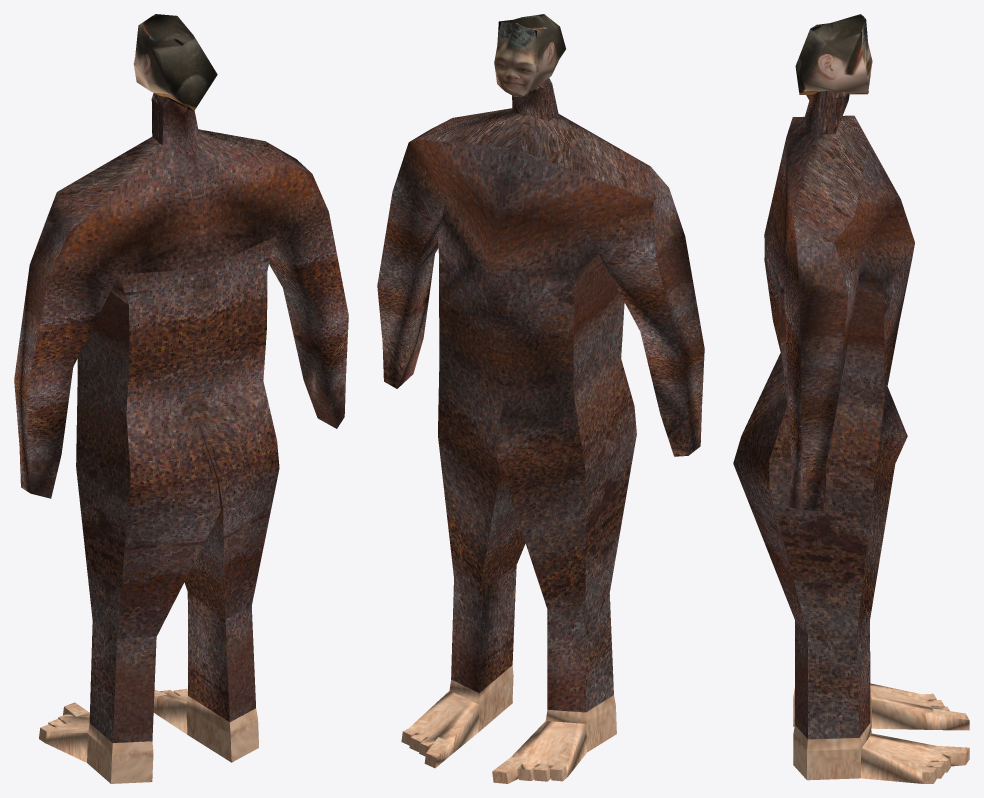
Rendered from guard.glb.
3 views of the same model, side by side, from view 1: azimuth 30°, elevation 25°; view 2: azimuth 150°, elevation 25°; view 3: azimuth 270°, elevation 25° (orthographic). The views are drawn at different scales.
Visible parts, largest first — view 1: Cube, Roundcube; view 2: Cube, Roundcube; view 3: Cube, Roundcube.
Part boxes in pixels (x1,y1,x2,y2): Cube: (14,93,348,783); Roundcube: (133,14,217,111); Cube: (377,78,704,783); Roundcube: (494,14,565,96); Cube: (733,91,969,783); Roundcube: (795,14,872,94).
Size of the model in its own units: 1.13 by 2.44 by 0.7192.
3 materials, 3 textured.
